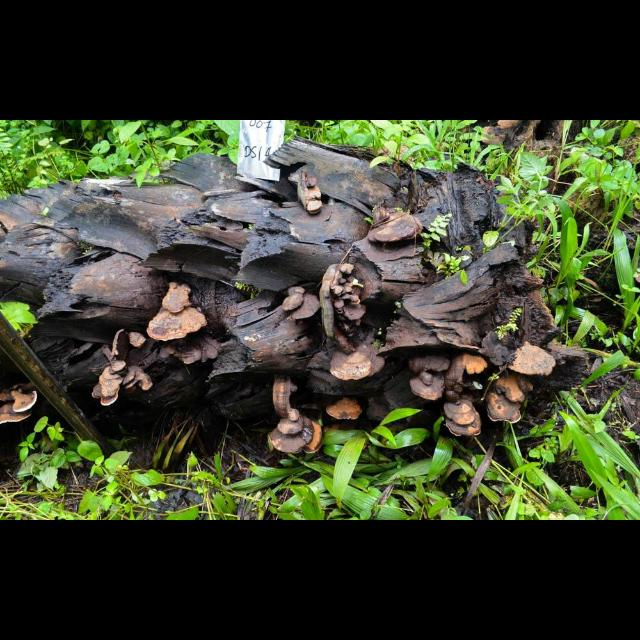ganoderma: (92, 361, 154, 408), (270, 408, 326, 456), (330, 263, 370, 327), (147, 306, 209, 343), (369, 207, 426, 246), (507, 341, 560, 378), (160, 336, 225, 366), (444, 399, 484, 439), (279, 289, 323, 319), (329, 352, 373, 382), (410, 371, 448, 403), (487, 393, 524, 425), (497, 374, 536, 404), (358, 342, 389, 378), (162, 283, 194, 316), (326, 398, 365, 422), (408, 356, 453, 375), (304, 177, 324, 216), (1, 402, 33, 426), (11, 391, 39, 414), (461, 355, 489, 376), (130, 333, 148, 350)
